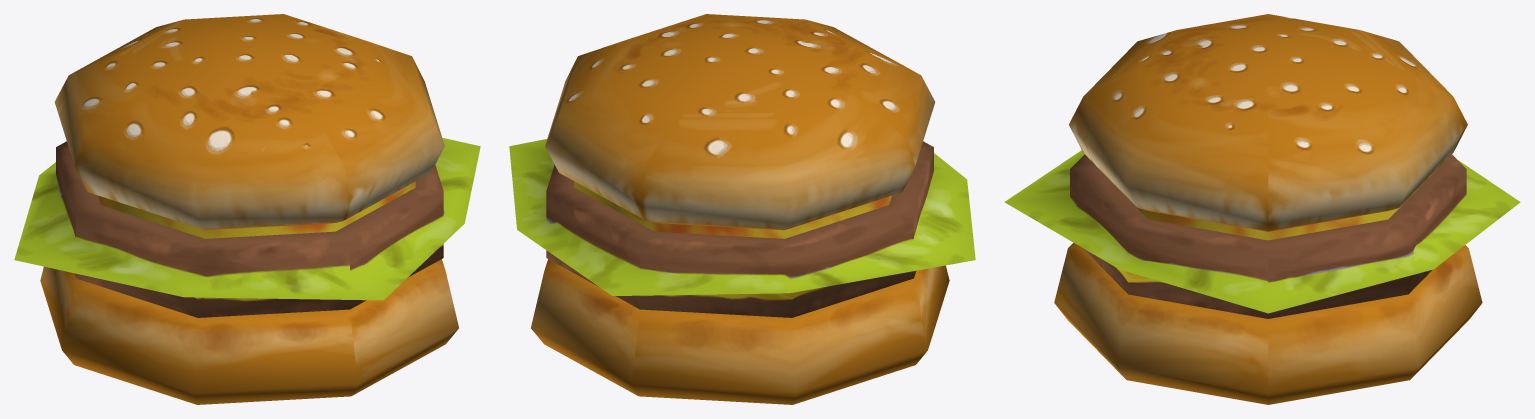
Rendered from Hamburger.fbx.
3 views of the same model, side by side, from view 1: azimuth 30°, elevation 25°; view 2: azimuth 150°, elevation 25°; view 3: azimuth 270°, elevation 25° (orthographic).
Parts seen in each view (by area): view 1: Hamburger; view 2: Hamburger; view 3: Hamburger.
Part boxes in pixels (x1,y1,x2,y2): Hamburger: (14,14,480,404); Hamburger: (509,14,975,404); Hamburger: (1004,14,1520,404).
Bounding box in the file's own units: 265 × 147 × 258.
